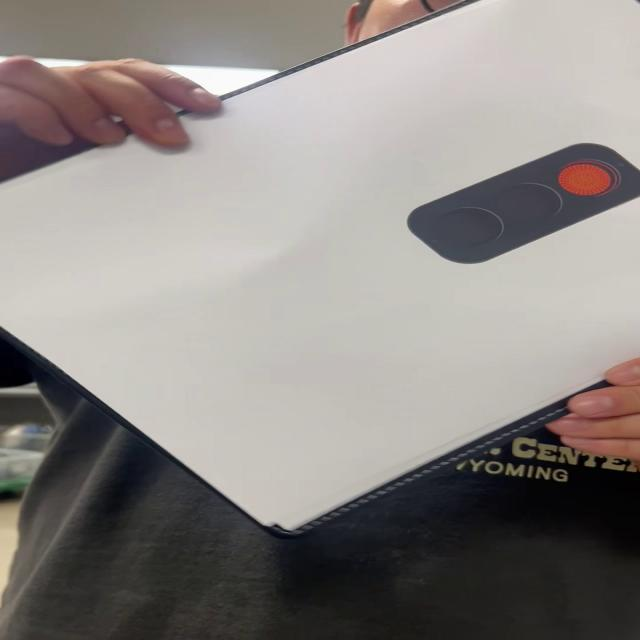red: (408, 141, 640, 267)
